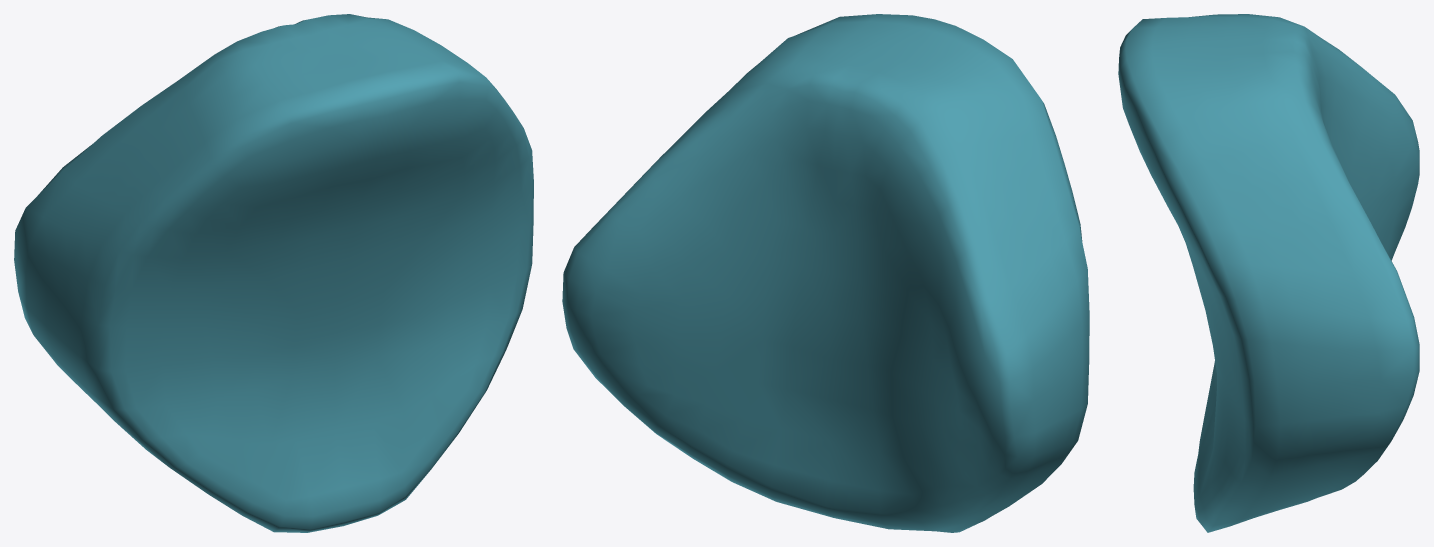
The model's file is VIS_Alpha_Surface_010.dae.
3 views of the same model, side by side, from view 1: azimuth 30°, elevation 25°; view 2: azimuth 150°, elevation 25°; view 3: azimuth 270°, elevation 25° (orthographic). The views are drawn at different scales.
Visible parts, largest first — view 1: VIS_Alpha_Surface_010; view 2: VIS_Alpha_Surface_010; view 3: VIS_Alpha_Surface_010.
Boxes of the visible parts, x1,y1,x2,y2 form: VIS_Alpha_Surface_010: (14,14,533,532); VIS_Alpha_Surface_010: (562,14,1089,532); VIS_Alpha_Surface_010: (1118,14,1419,532).
Size of the model in its own units: 27.21 by 15.84 by 26.85.
